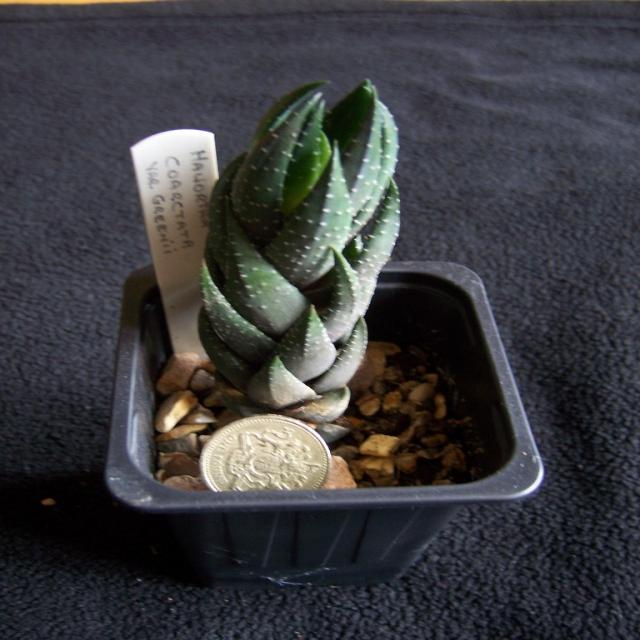Coin: (197, 412, 337, 490)
